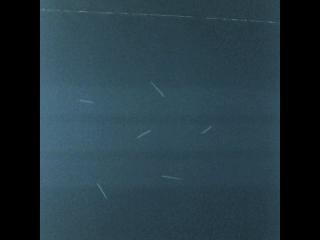scratch: (147, 78, 170, 101), (94, 178, 111, 201), (158, 172, 186, 183), (134, 127, 153, 139), (197, 123, 214, 136), (77, 97, 96, 106)
